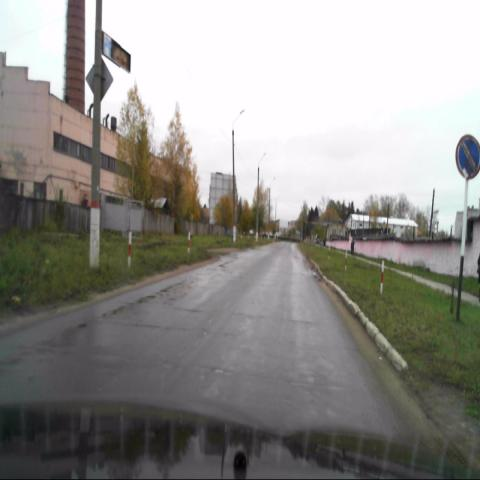3_28: (454, 134, 480, 181)
